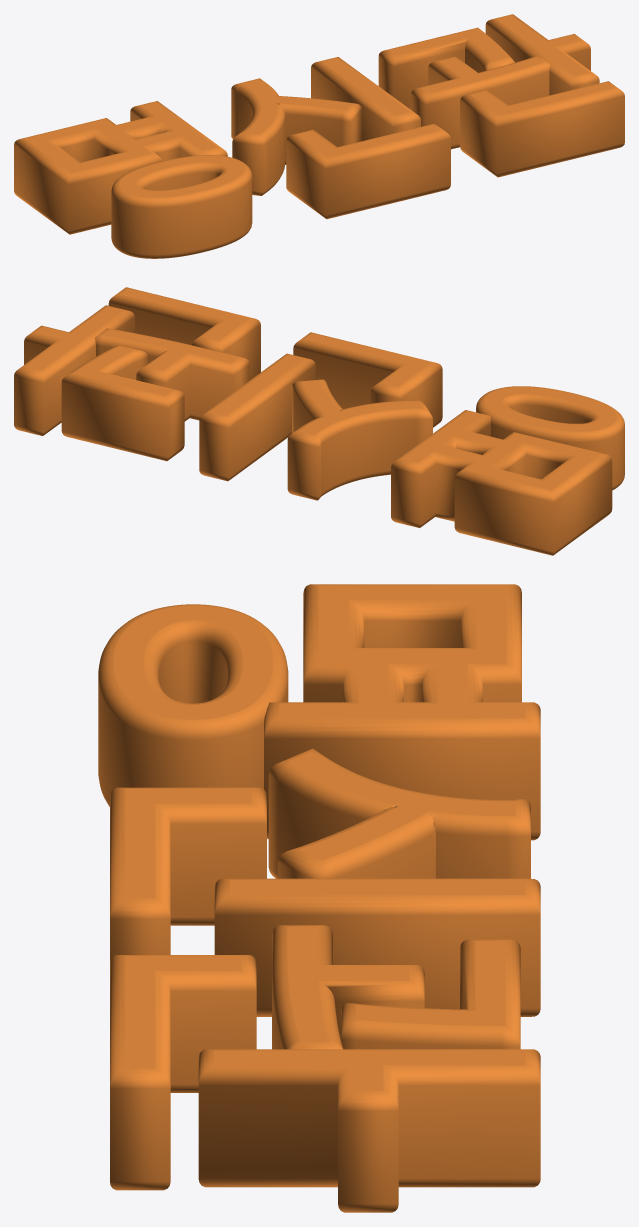
3 views of the same model, one above another, from view 1: azimuth 30°, elevation 25°; view 2: azimuth 150°, elevation 25°; view 3: azimuth 270°, elevation 25° (orthographic). The views are drawn at different scales.
Visible parts, largest first — view 1: Text; view 2: Text; view 3: Text.
Boxes of the visible parts, box(x1,y1,x2,y2) form: Text: box(14, 14, 624, 258); Text: box(14, 287, 624, 555); Text: box(98, 584, 540, 1212).
Bounding box in the file's own units: 239 × 26 × 86.4.
